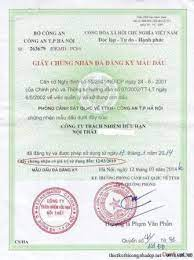Round chop: (31, 186, 80, 236), (92, 181, 141, 227)
